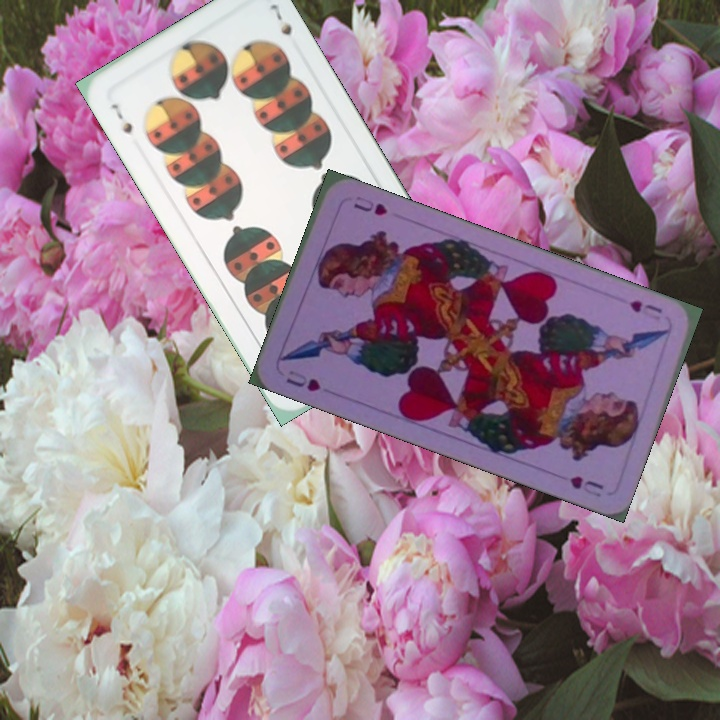HU: (282, 366, 324, 394), (625, 295, 665, 316)
S7: (106, 99, 135, 140)
